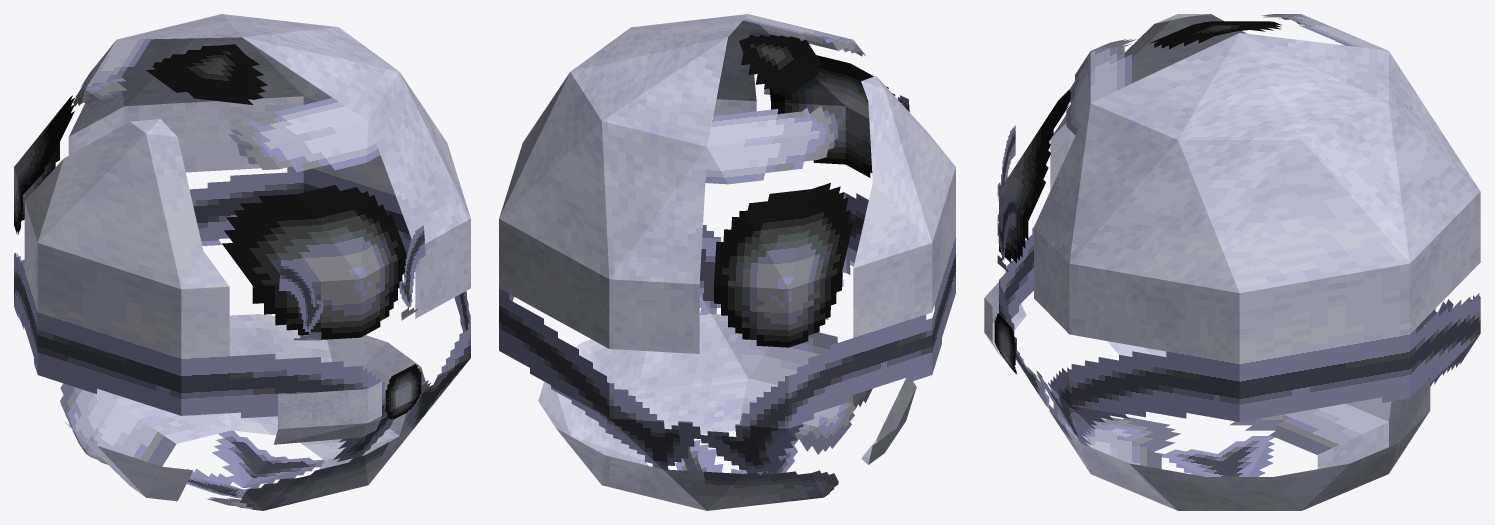
Rendered from snowman_head.obj.
The picture shows the model from 3 angles, left to right: view 1: azimuth 30°, elevation 25°; view 2: azimuth 150°, elevation 25°; view 3: azimuth 270°, elevation 25°; orthographic projection.
Parts seen in each view (by area): view 1: big_snowman_head_model; view 2: big_snowman_head_model; view 3: big_snowman_head_model.
Boxes of the visible parts, x1,y1,x2,y2 form: big_snowman_head_model: (14, 14, 470, 510); big_snowman_head_model: (499, 14, 955, 510); big_snowman_head_model: (984, 14, 1480, 510).
Bounding box in the file's own units: 0.4385 × 0.4609 × 0.4517.
Materials: 1 (1 with a texture image).
